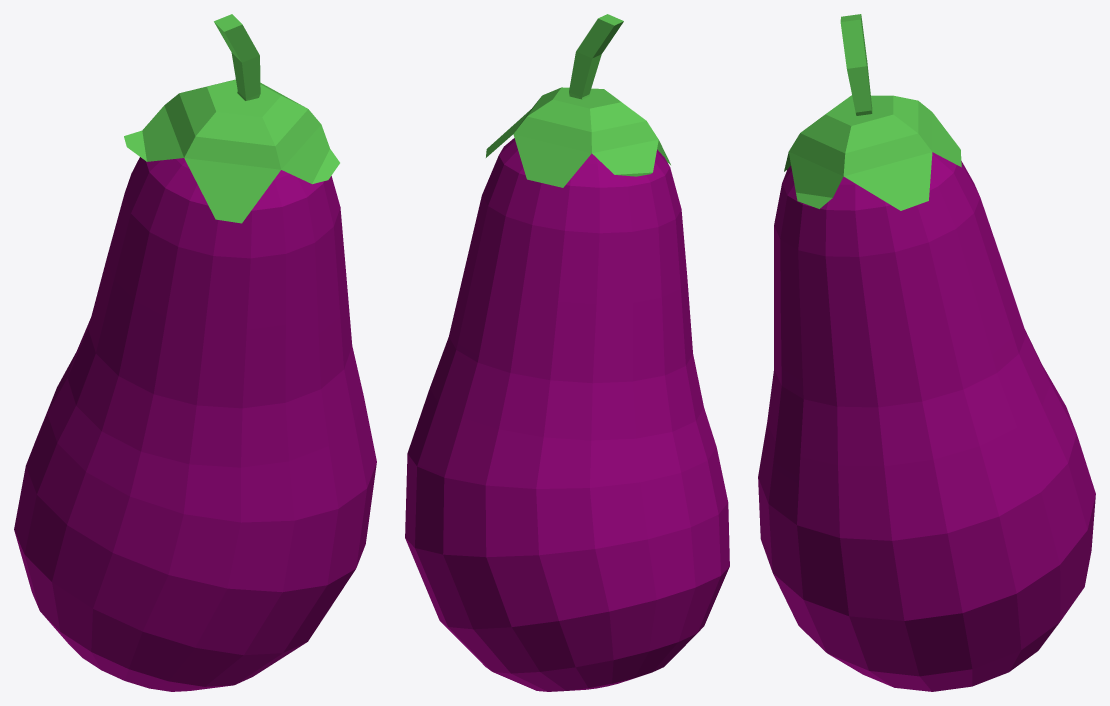
Rendered from VegetableEggplant.fbx.
3 views of the same model, side by side, from view 1: azimuth 30°, elevation 25°; view 2: azimuth 150°, elevation 25°; view 3: azimuth 270°, elevation 25° (orthographic). The views are drawn at different scales.
Parts seen in each view (by area): view 1: Sphere.069; view 2: Sphere.069; view 3: Sphere.069.
Boxes of the visible parts, x1,y1,x2,y2 form: Sphere.069: [14, 14, 376, 691]; Sphere.069: [405, 14, 729, 691]; Sphere.069: [758, 14, 1095, 691].
Size of the model in its own units: 108 by 230 by 107.
1 material, 1 textured.
